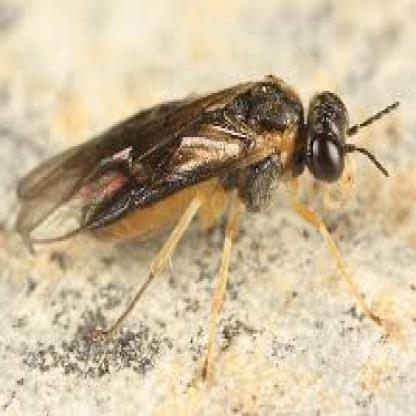sawfly: (14, 68, 416, 386)
